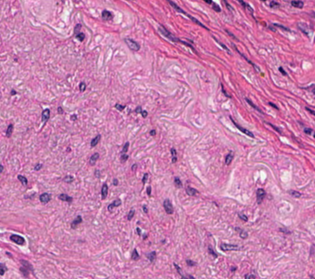nucleus: (230, 117, 254, 137), (159, 26, 179, 42), (245, 98, 262, 112), (214, 38, 228, 51), (125, 38, 139, 50), (71, 215, 82, 228), (163, 199, 173, 213), (256, 188, 265, 203), (220, 243, 239, 250), (108, 199, 120, 210), (58, 193, 72, 202), (39, 192, 50, 203), (90, 134, 100, 146), (235, 227, 247, 237), (267, 123, 280, 132), (89, 152, 98, 165), (41, 109, 49, 122), (225, 151, 233, 164), (186, 186, 197, 195), (101, 183, 107, 199), (121, 142, 129, 153), (208, 246, 216, 257), (288, 190, 300, 197), (147, 251, 155, 261), (75, 32, 84, 40), (171, 148, 176, 162), (63, 175, 73, 182), (174, 177, 181, 187), (127, 209, 134, 219), (131, 249, 138, 259), (120, 154, 128, 162), (269, 102, 278, 109), (115, 103, 124, 110), (142, 173, 148, 183), (279, 67, 286, 75), (305, 107, 313, 114), (34, 163, 42, 170), (279, 228, 290, 233), (79, 82, 85, 91), (186, 259, 195, 265), (239, 214, 247, 220), (244, 274, 256, 278), (304, 128, 313, 133), (310, 244, 314, 255), (135, 106, 141, 112), (141, 110, 147, 116), (146, 186, 150, 195), (57, 107, 62, 113), (71, 114, 76, 120), (131, 164, 136, 170), (95, 170, 99, 177), (113, 178, 117, 185), (143, 205, 147, 212), (136, 228, 140, 234), (150, 130, 155, 134)
